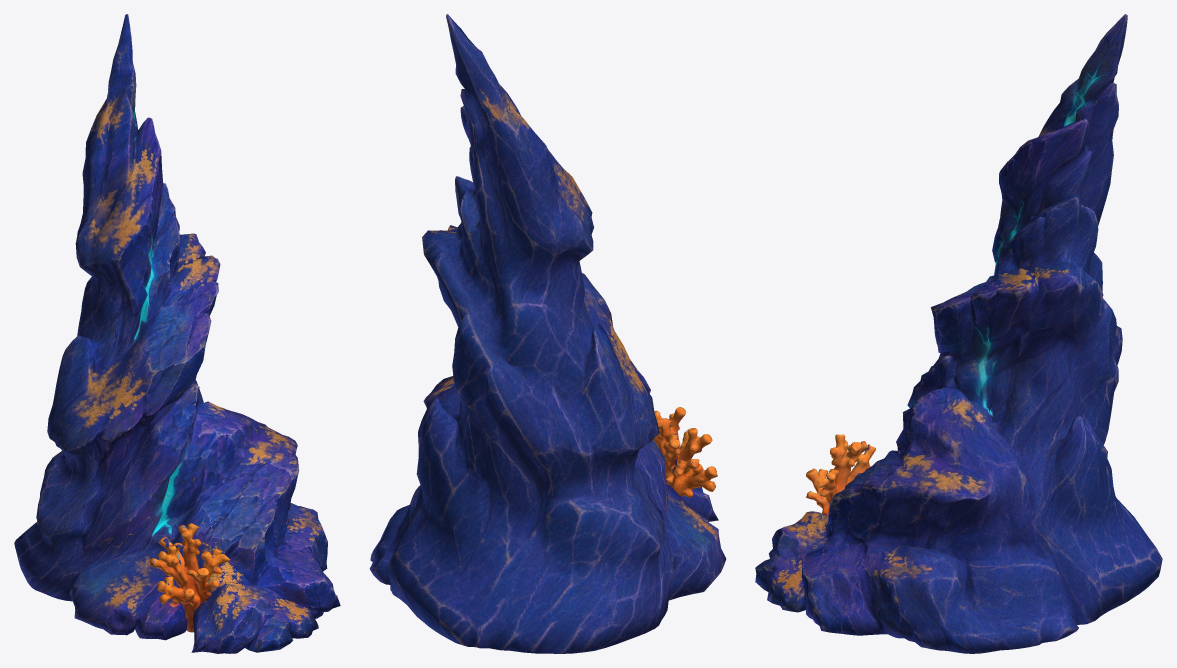
File: spire.fbx
The picture shows the model from 3 angles, left to right: view 1: azimuth 30°, elevation 25°; view 2: azimuth 150°, elevation 25°; view 3: azimuth 270°, elevation 25°; orthographic projection. The views are drawn at different scales.
Parts seen in each view (by area): view 1: spire; view 2: spire; view 3: spire.
Boxes of the visible parts, bbox=[...] form: spire: bbox=[14, 14, 340, 653]; spire: bbox=[369, 14, 726, 653]; spire: bbox=[755, 14, 1162, 653].
Size of the model in its own units: 5.8 by 11 by 7.07.
